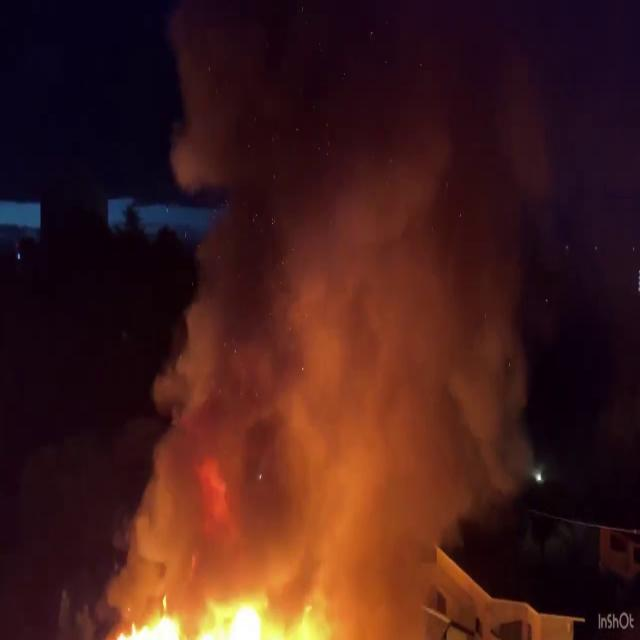Fire: (110, 581, 344, 640)
Smoke: (118, 8, 552, 608)
